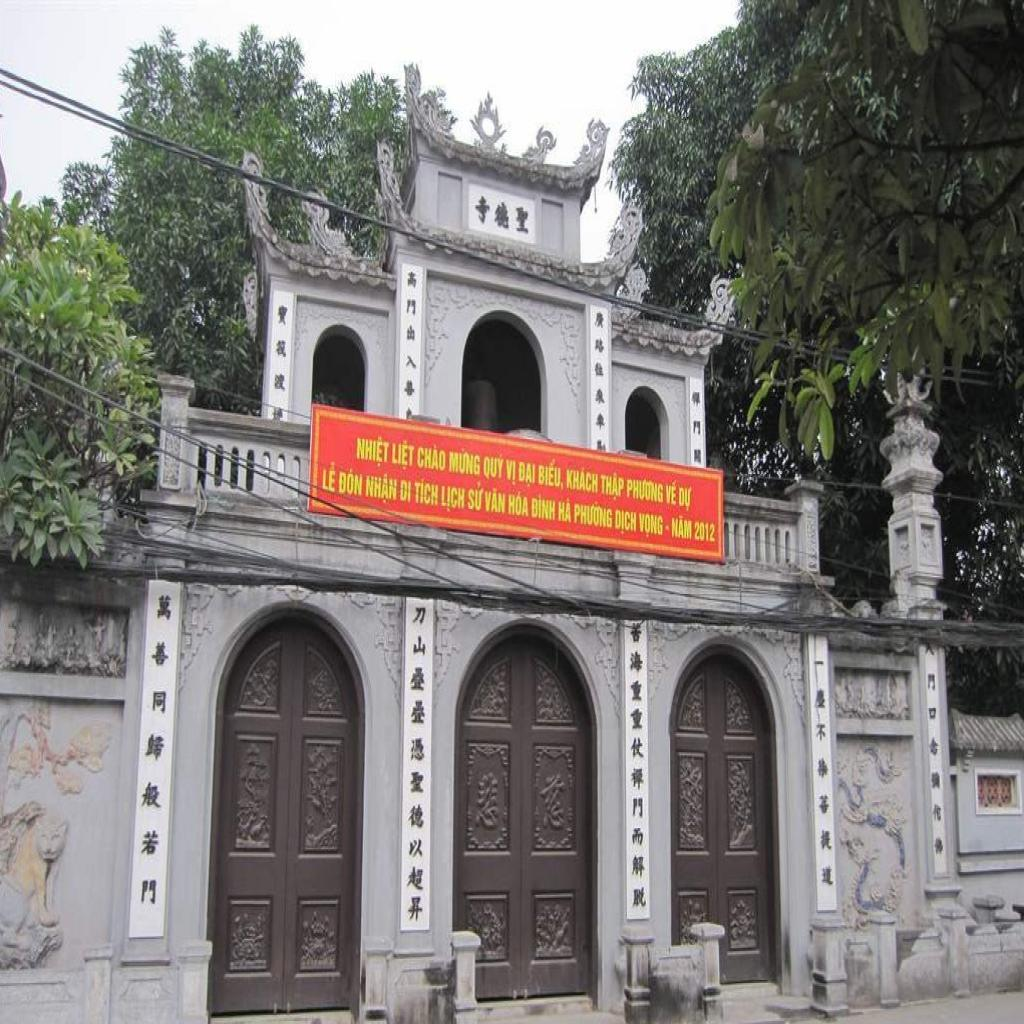text: (354, 431, 390, 471), (574, 498, 614, 530), (626, 476, 665, 508), (364, 472, 398, 508), (416, 440, 448, 476), (564, 464, 600, 496), (448, 447, 482, 480), (337, 465, 364, 500), (414, 474, 440, 509), (538, 458, 564, 492), (601, 469, 626, 503), (614, 508, 640, 540), (639, 509, 665, 541), (391, 439, 415, 473), (440, 484, 466, 514), (530, 491, 556, 521), (508, 488, 530, 520), (321, 459, 339, 497), (484, 450, 506, 480), (484, 486, 506, 515), (468, 480, 486, 515), (671, 515, 693, 541), (518, 459, 536, 489), (558, 495, 574, 526), (504, 456, 518, 489), (679, 483, 693, 514), (665, 475, 678, 506), (399, 475, 412, 506)
